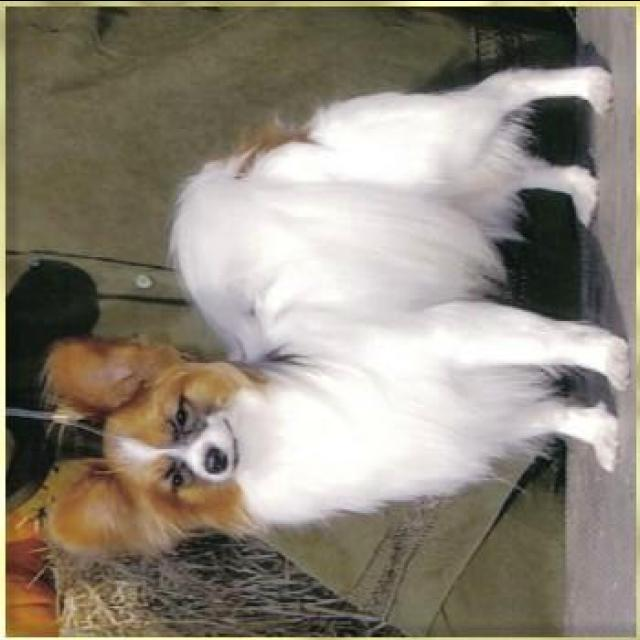papillon: (46, 62, 631, 558)
